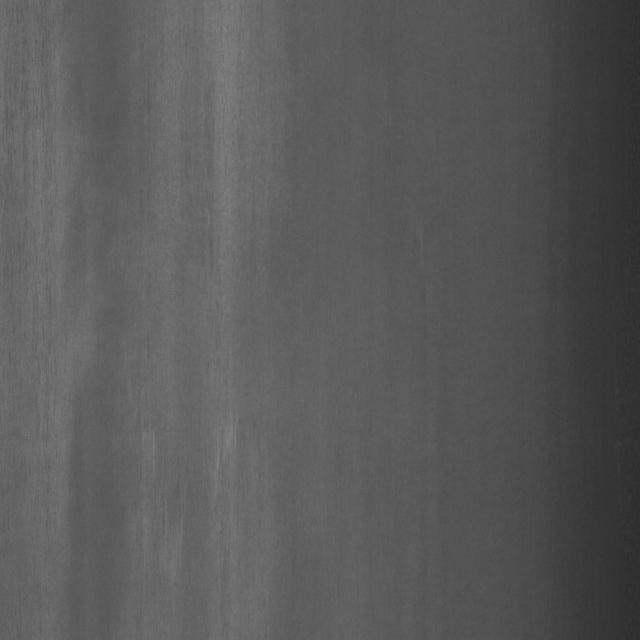inclusion: (132, 397, 264, 592)
